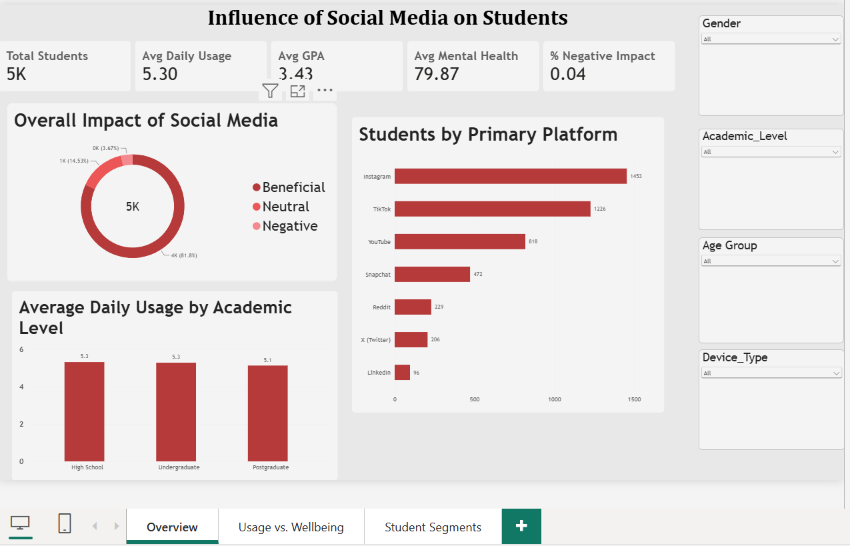

The page's visual inventory and layout, read from the dashboard file:
{"tool":"powerbi","page":{"name":"Overview","canvas":[1920,1080],"ordinal":0},"visuals":[{"type":"textbox","box":[10,0,280,280],"z":0},{"type":"textbox","box":[10,290,280,280],"z":1000},{"type":"textbox","box":[10,580,280,280],"z":2000},{"type":"textbox","box":[10,870,280,210],"z":3000},{"type":"textbox","box":[299.8,0,1167.5,218],"z":4000},{"type":"cardVisual","fields":{"Data":["Students.Total Students","Students.Avg Daily Usage","Students.Avg GPA","Students.Avg Mental Health","Students.% Negative Impact"]},"box":[0,82.9,1539.5,116.1],"z":5000},{"type":"donutChart","title":"Overall Impact of Social Media","fields":{"Category":["Students.Overall_Impact"],"Y":["Students.Total Students"]},"box":[18.9,222.6,750.8,407.4],"z":6000},{"type":"clusteredBarChart","title":"Students by Primary Platform","fields":{"Category":["Students.Primary_Platform"],"Y":["Students.Total Students"]},"box":[802.9,253.4,710.5,672.6],"z":7000},{"type":"clusteredColumnChart","title":"Average Daily Usage by Academic Level","fields":{"Category":["Students.Academic_Level"],"Y":["Students.Avg Daily Usage"]},"box":[28.4,649,741.3,431.1],"z":8000},{"type":"slicer","fields":{"Values":["Students.Gender"]},"box":[1589.2,26.1,329.2,227.4],"z":9000},{"type":"slicer","fields":{"Values":["Students.Age Group"]},"box":[1589.2,528.2,329.2,239.2],"z":10000},{"type":"slicer","fields":{"Values":["Students.Device_Type"]},"box":[1589.2,784,331.6,227.4],"z":11000},{"type":"slicer","fields":{"Values":["Students.Academic_Level"]},"box":[1589.2,281.8,329.2,229.7],"z":12000}]}

Visuals, with their boxes on the page's 1920x1080 design canvas (x1, y1, x2, y2). These are canvas units, not pixel positions in the 850x546 screenshot, which may show the page scaled, cropped or inside an application window:
textbox: Rect(10, 0, 290, 280)
textbox: Rect(10, 290, 290, 570)
textbox: Rect(10, 580, 290, 860)
textbox: Rect(10, 870, 290, 1080)
textbox: Rect(300, 0, 1467, 218)
cardVisual - Students.Total Students x Students.Avg Daily Usage: Rect(0, 83, 1540, 199)
"Overall Impact of Social Media" donutChart: Rect(19, 223, 770, 630)
"Students by Primary Platform" clusteredBarChart: Rect(803, 253, 1513, 926)
"Average Daily Usage by Academic Level" clusteredColumnChart: Rect(28, 649, 770, 1080)
slicer - Students.Gender: Rect(1589, 26, 1918, 254)
slicer - Students.Age Group: Rect(1589, 528, 1918, 767)
slicer - Students.Device_Type: Rect(1589, 784, 1921, 1011)
slicer - Students.Academic_Level: Rect(1589, 282, 1918, 512)
